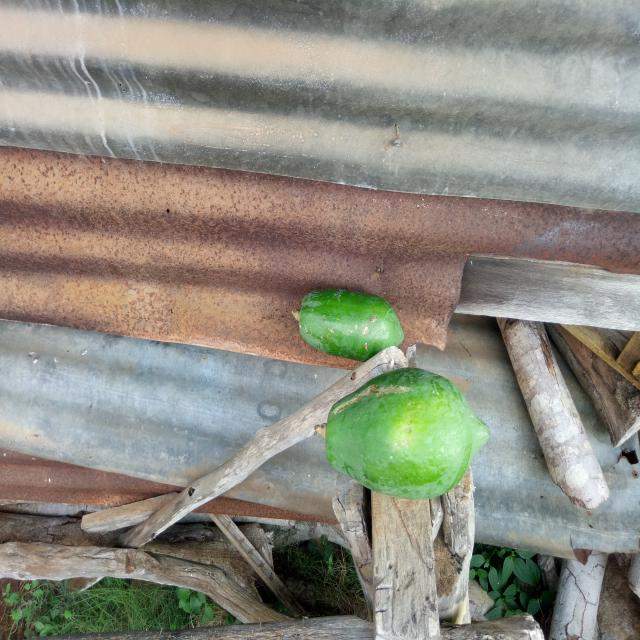Pepaya unrippen: (313, 366, 491, 506), (286, 279, 402, 359)
